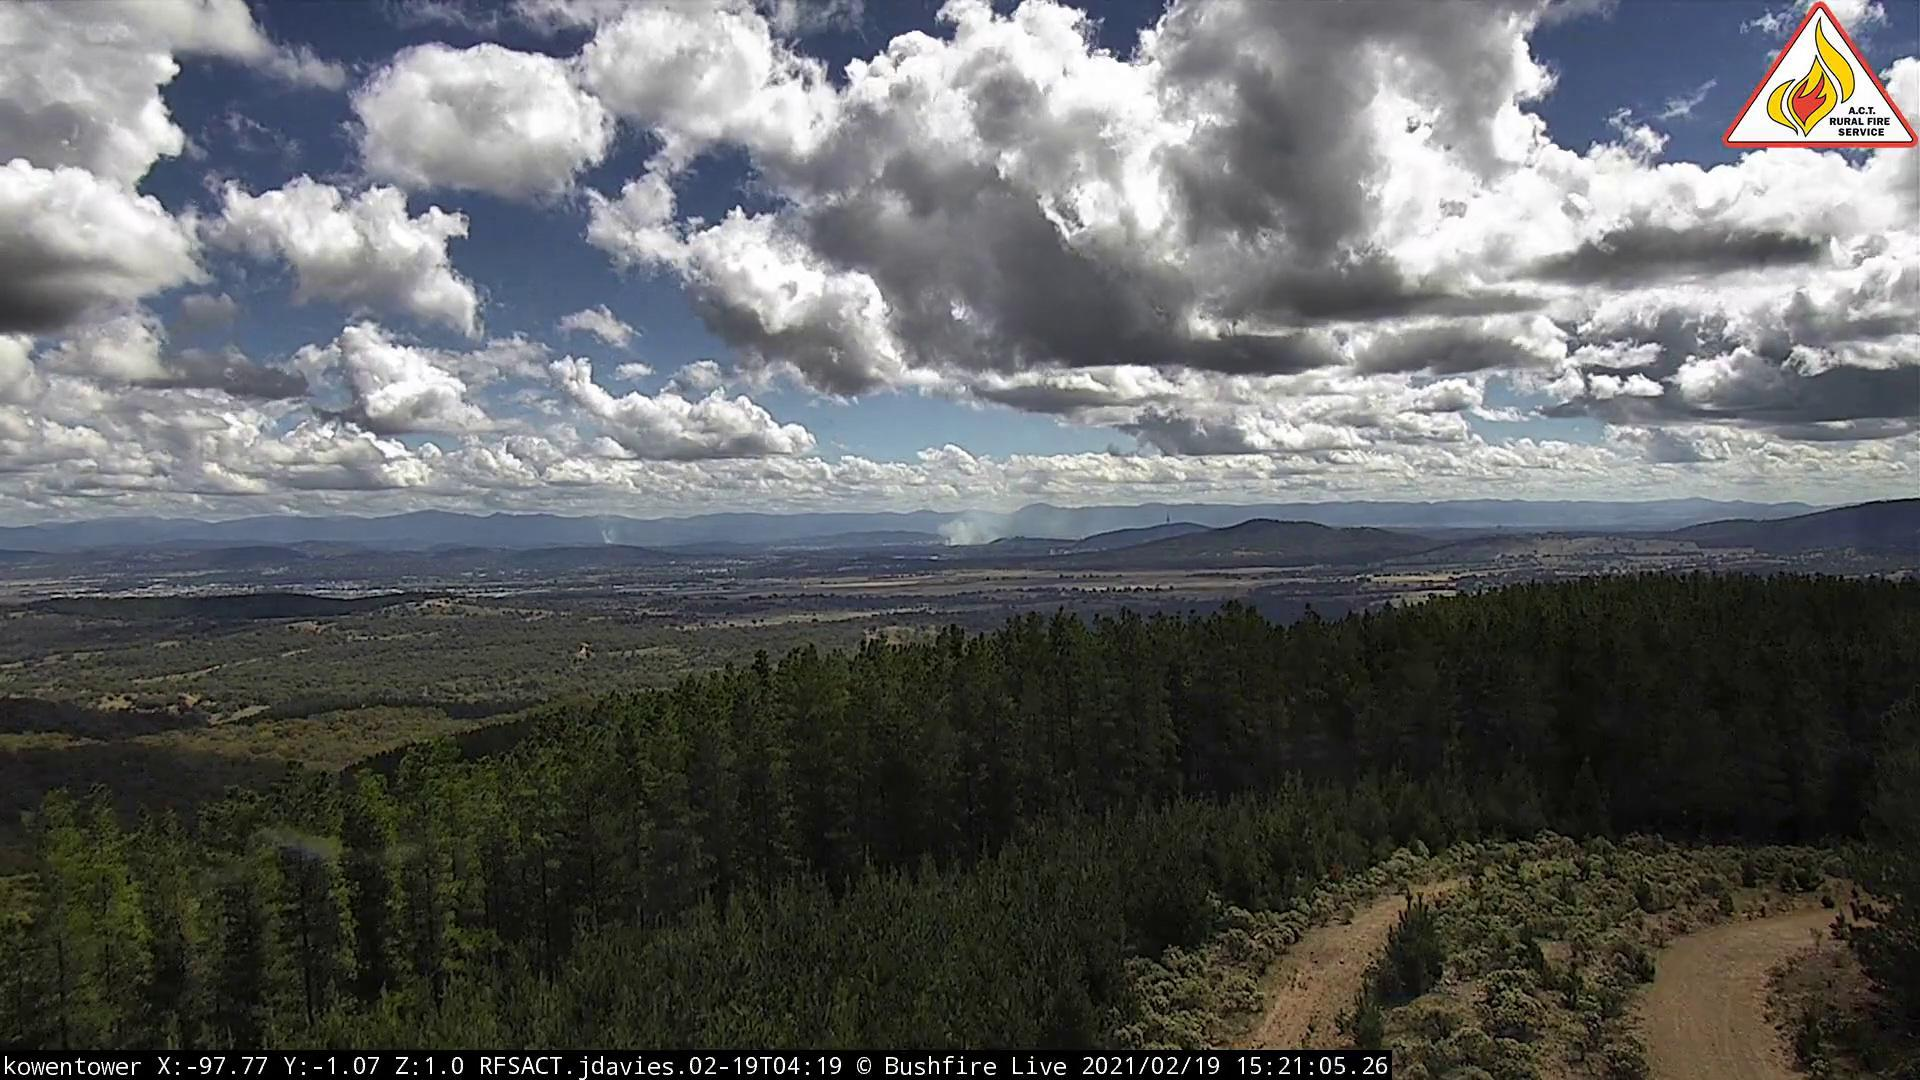Smoke: (934, 498, 1065, 555), (603, 512, 636, 554)
